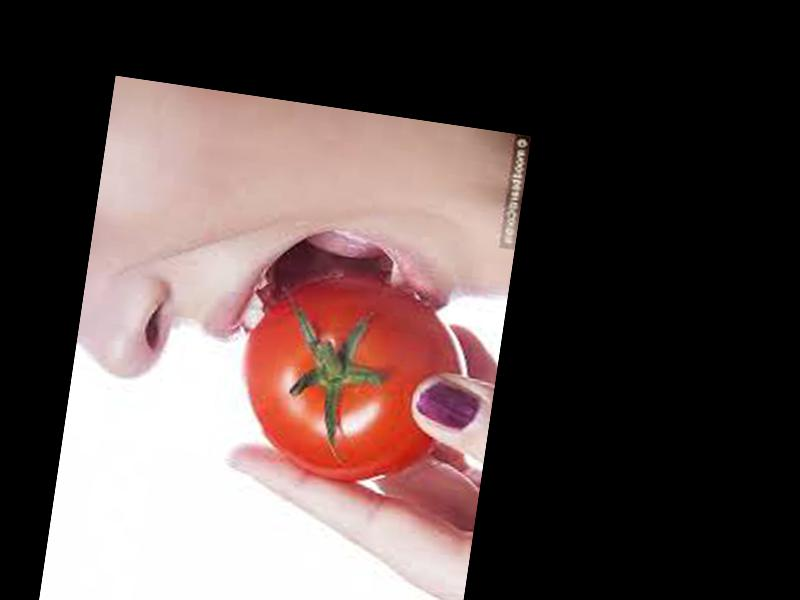Tomato: (228, 264, 478, 497)
